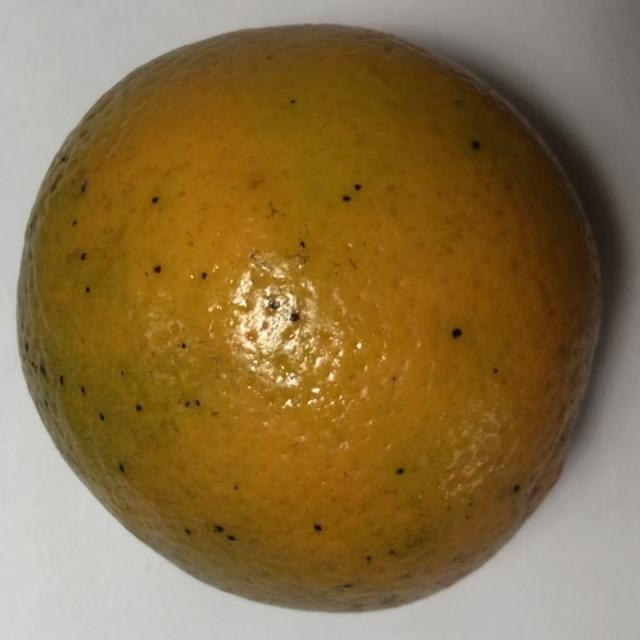blackspot: (6, 16, 622, 635)
